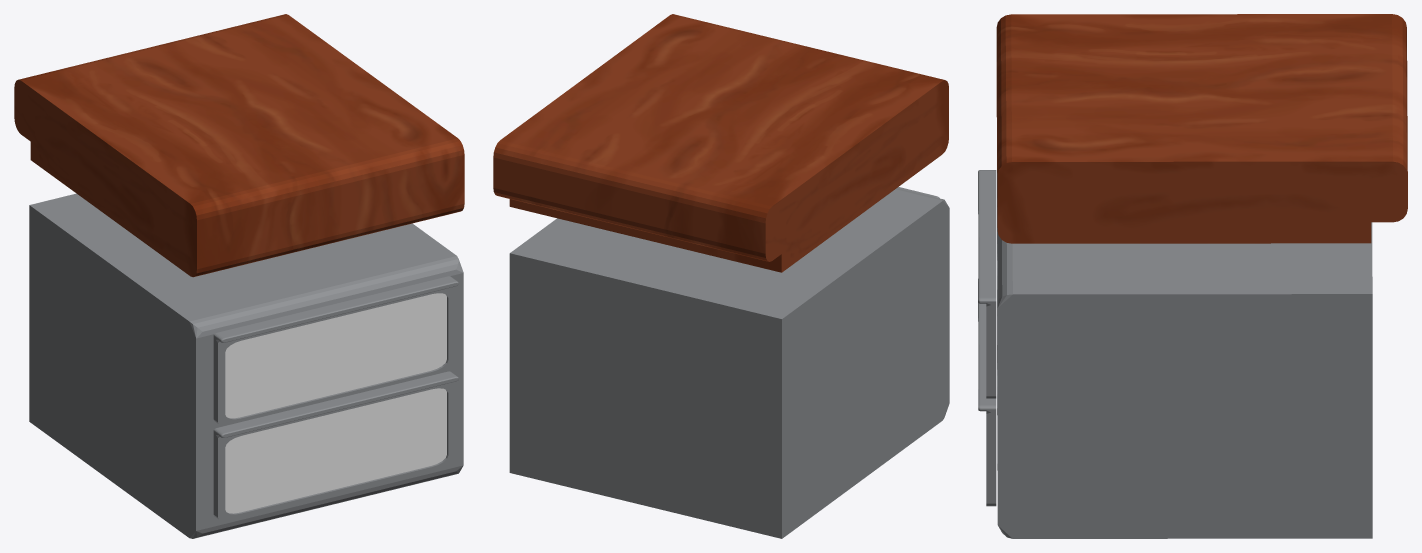
The model's file is SM_Cabinet_Drawers.fbx.
3 renders of one model, left to right at view 1: azimuth 30°, elevation 25°; view 2: azimuth 150°, elevation 25°; view 3: azimuth 270°, elevation 25°, orthographic. The views are drawn at different scales.
Visible parts, largest first — view 1: Mitte_SGCabinet_R.TOP.002, Mitte_SGCabinet_R.BOTTOM.003, Cabinet Drawer_RoundGlass.001, Cabinet Drawer_RoundGlass.003, Cabinet Drawer_RoundGlass, Cabinet Drawer_RoundGlass.002; view 2: Mitte_SGCabinet_R.BOTTOM.003, Mitte_SGCabinet_R.TOP.002; view 3: Mitte_SGCabinet_R.BOTTOM.003, Mitte_SGCabinet_R.TOP.002, Cabinet Drawer_RoundGlass, Cabinet Drawer_RoundGlass.002.
Part boxes in pixels (x1,y1,x2,y2): Mitte_SGCabinet_R.TOP.002: [14, 14, 464, 277]; Mitte_SGCabinet_R.BOTTOM.003: [29, 193, 463, 538]; Cabinet Drawer_RoundGlass.001: [225, 293, 446, 418]; Cabinet Drawer_RoundGlass.003: [225, 388, 446, 513]; Cabinet Drawer_RoundGlass: [213, 276, 458, 425]; Cabinet Drawer_RoundGlass.002: [213, 371, 458, 520]; Mitte_SGCabinet_R.BOTTOM.003: [509, 188, 949, 538]; Mitte_SGCabinet_R.TOP.002: [493, 14, 948, 272]; Mitte_SGCabinet_R.BOTTOM.003: [997, 173, 1372, 538]; Mitte_SGCabinet_R.TOP.002: [996, 14, 1407, 243]; Cabinet Drawer_RoundGlass: [978, 170, 996, 398]; Cabinet Drawer_RoundGlass.002: [978, 279, 996, 506].
Bounding box in the file's own units: 295 × 350 × 361.
